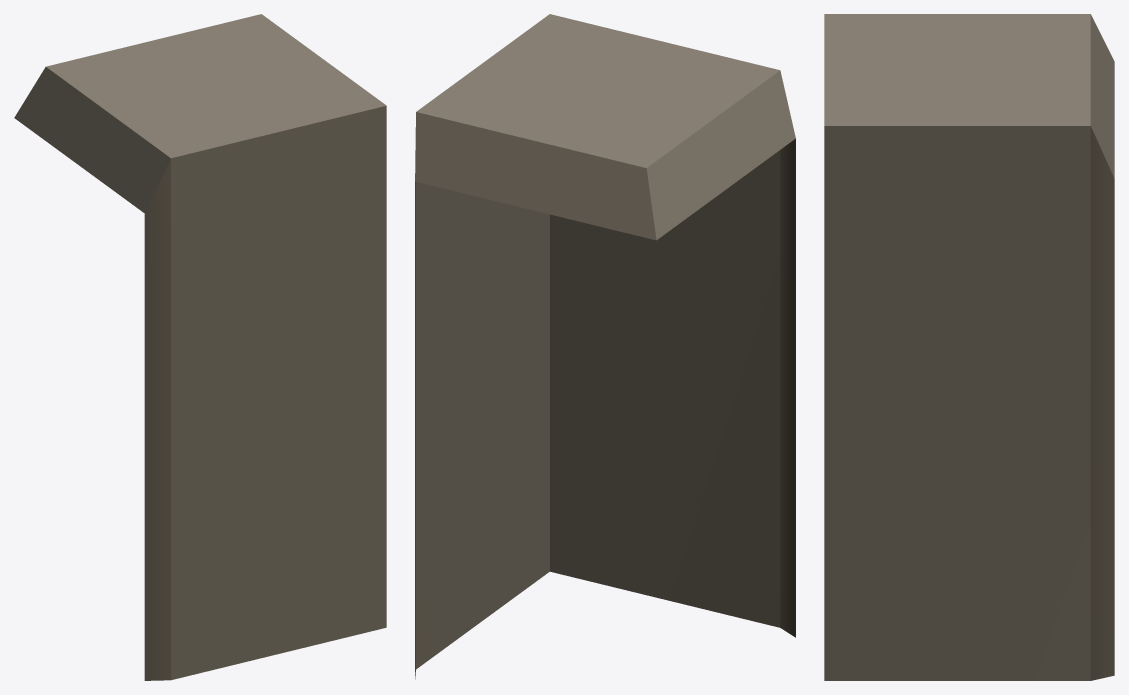
File: SF_Bld_Elven_Blockwall_Corner_02.fbx
3 views of the same model, side by side, from view 1: azimuth 30°, elevation 25°; view 2: azimuth 150°, elevation 25°; view 3: azimuth 270°, elevation 25° (orthographic). The views are drawn at different scales.
Parts seen in each view (by area): view 1: SF_Bld_Elven_Blockwall_Corner_02; view 2: SF_Bld_Elven_Blockwall_Corner_02; view 3: SF_Bld_Elven_Blockwall_Corner_02.
Part boxes in pixels (x1=…): SF_Bld_Elven_Blockwall_Corner_02: x1=14, y1=14, x2=386, y2=680; SF_Bld_Elven_Blockwall_Corner_02: x1=415, y1=14, x2=795, y2=679; SF_Bld_Elven_Blockwall_Corner_02: x1=824, y1=14, x2=1114, y2=680.
Size of the model in its own units: 5.16 by 10.9 by 5.16.
